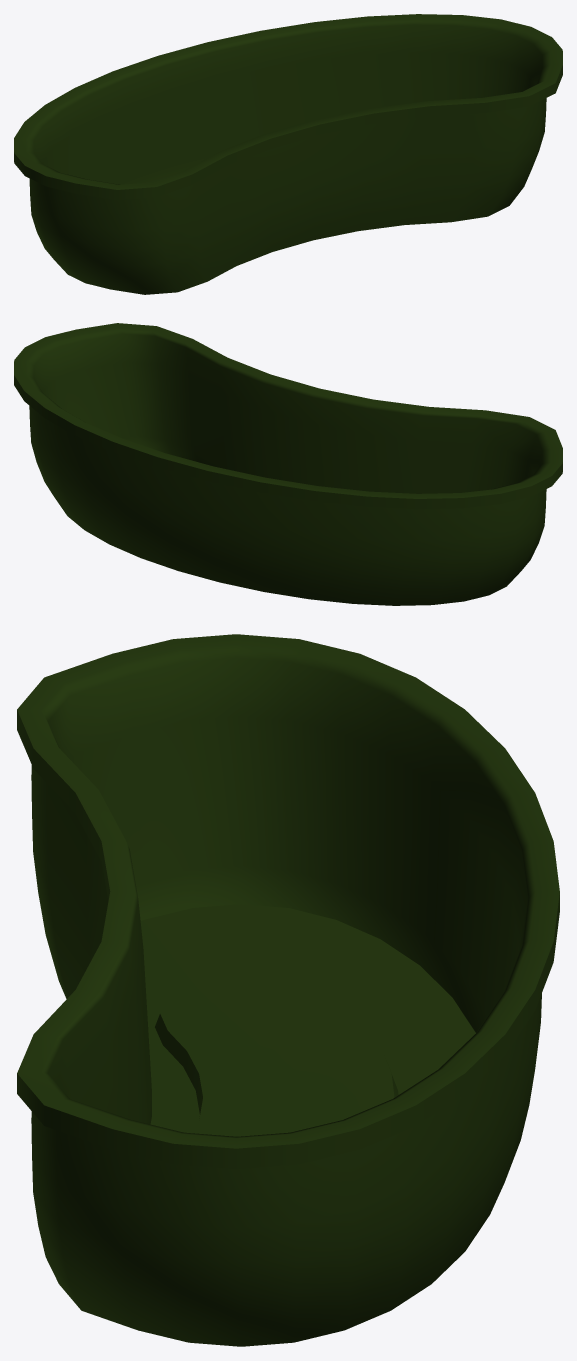
File: Kidneydish_Green.fbx
3 views of the same model, one above another, from view 1: azimuth 30°, elevation 25°; view 2: azimuth 150°, elevation 25°; view 3: azimuth 270°, elevation 25° (orthographic). The views are drawn at different scales.
Visible parts, largest first — view 1: kidneydish_Green_Plastics; view 2: kidneydish_Green_Plastics; view 3: kidneydish_Green_Plastics.
Boxes of the visible parts, left/top/right/bottom form: kidneydish_Green_Plastics: left=14, top=14, right=562, bottom=294; kidneydish_Green_Plastics: left=14, top=323, right=562, bottom=605; kidneydish_Green_Plastics: left=17, top=634, right=559, bottom=1346.
Size of the model in its own units: 25.57 by 5.59 by 11.4.
